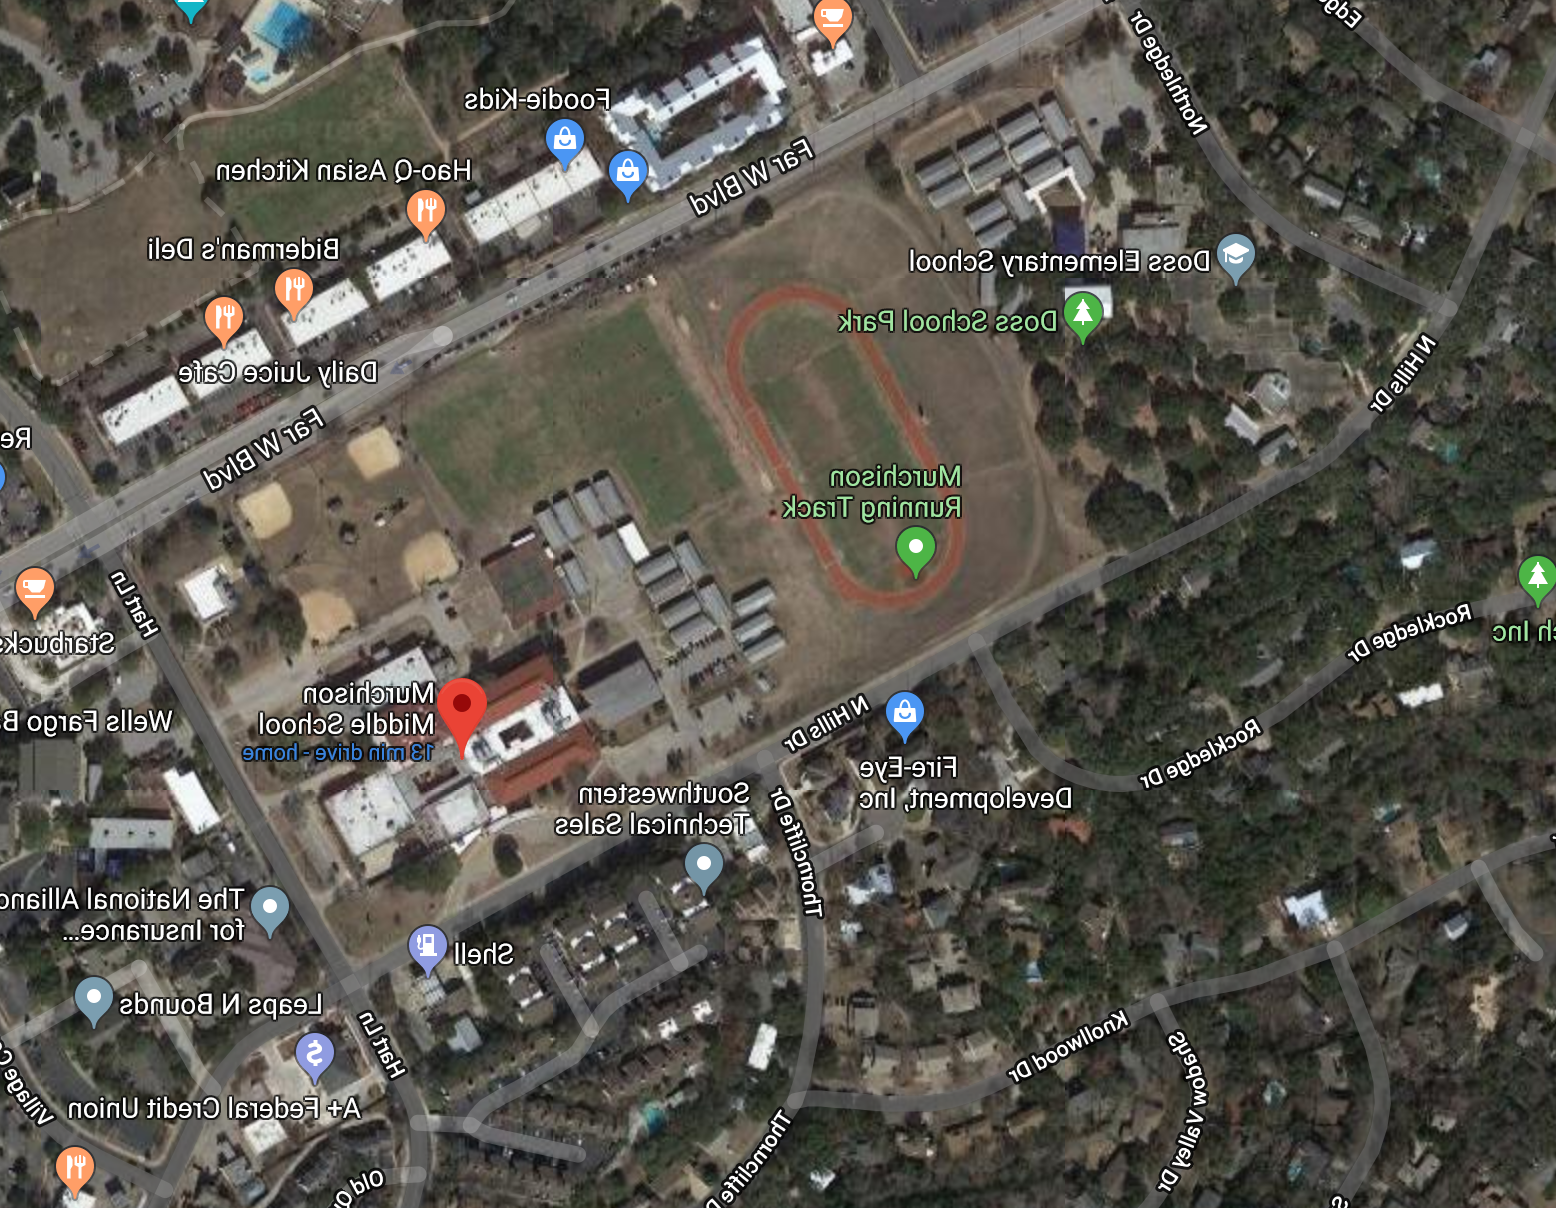soccer: (685, 254, 991, 637)
